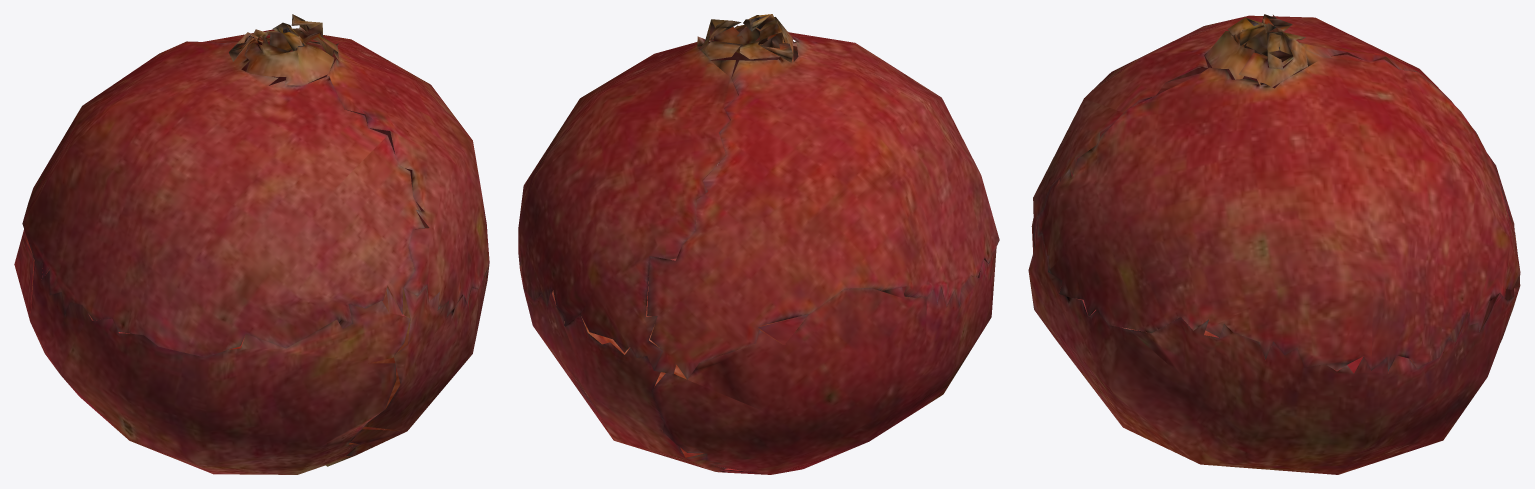
Rendered from isl_pomegranate.glb.
The picture shows the model from 3 angles, left to right: view 1: azimuth 30°, elevation 25°; view 2: azimuth 150°, elevation 25°; view 3: azimuth 270°, elevation 25°; orthographic projection. The views are drawn at different scales.
Parts seen in each view (by area): view 1: food_pomegranate_01; view 2: food_pomegranate_01; view 3: food_pomegranate_01.
Boxes of the visible parts, left/top/right/bottom form: food_pomegranate_01: left=14, top=14, right=489, bottom=474; food_pomegranate_01: left=518, top=14, right=999, bottom=474; food_pomegranate_01: left=1028, top=14, right=1520, bottom=474.
Bounding box in the file's own units: 0.1142 × 0.1148 × 0.1165.
Materials: 1 (1 with a texture image).
